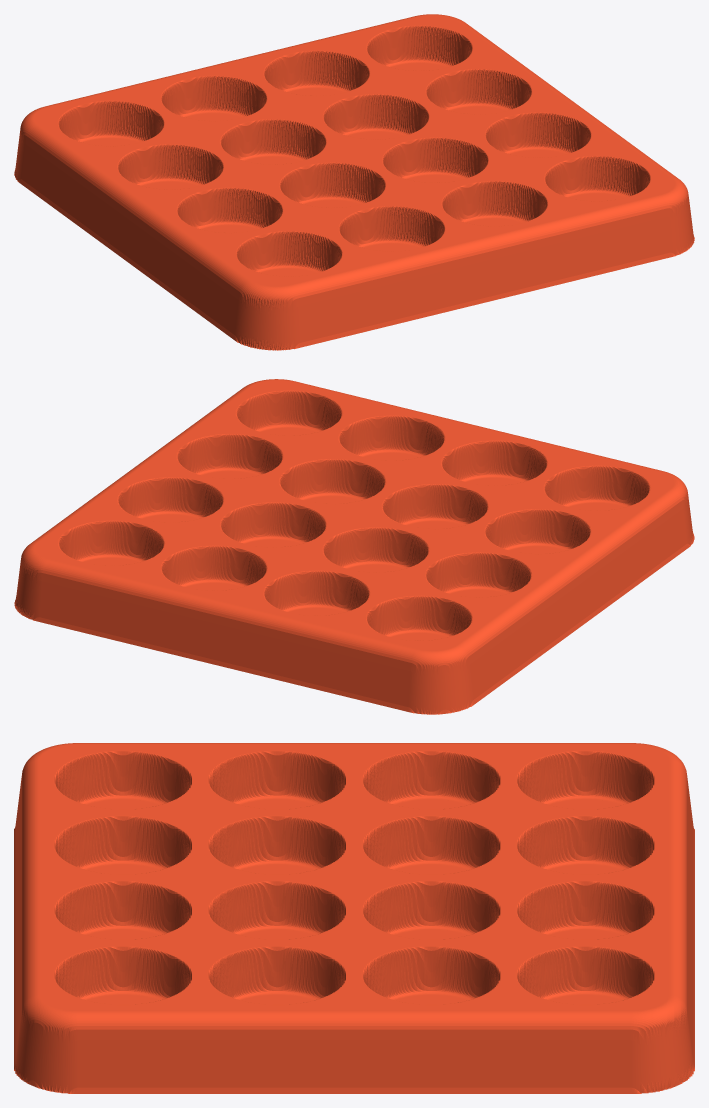
Rendered from mold.glb.
3 views of the same model, one above another, from view 1: azimuth 30°, elevation 25°; view 2: azimuth 150°, elevation 25°; view 3: azimuth 270°, elevation 25° (orthographic). The views are drawn at different scales.
Visible parts, largest first — view 1: geometry_0; view 2: geometry_0; view 3: geometry_0.
Boxes of the visible parts, x1=… form: geometry_0: x1=14, y1=14, x2=694, y2=350; geometry_0: x1=14, y1=379, x2=694, y2=714; geometry_0: x1=14, y1=743, x2=694, y2=1093.
Bounding box in the file's own units: 0.0972 × 0.0114 × 0.0972.
